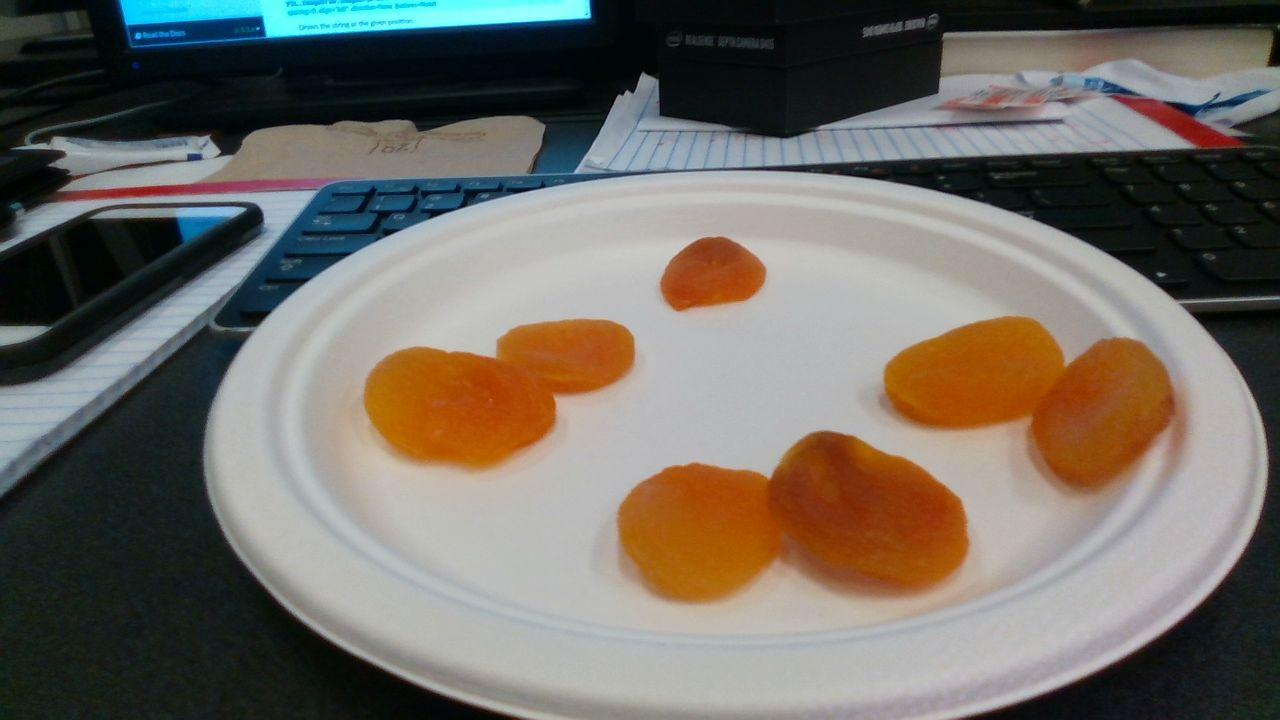apricot: (770, 432, 968, 588), (365, 347, 557, 466), (620, 465, 779, 598), (1034, 340, 1173, 486), (885, 319, 1065, 425), (496, 319, 636, 394), (660, 237, 766, 312)
plate: (204, 170, 1266, 719)
